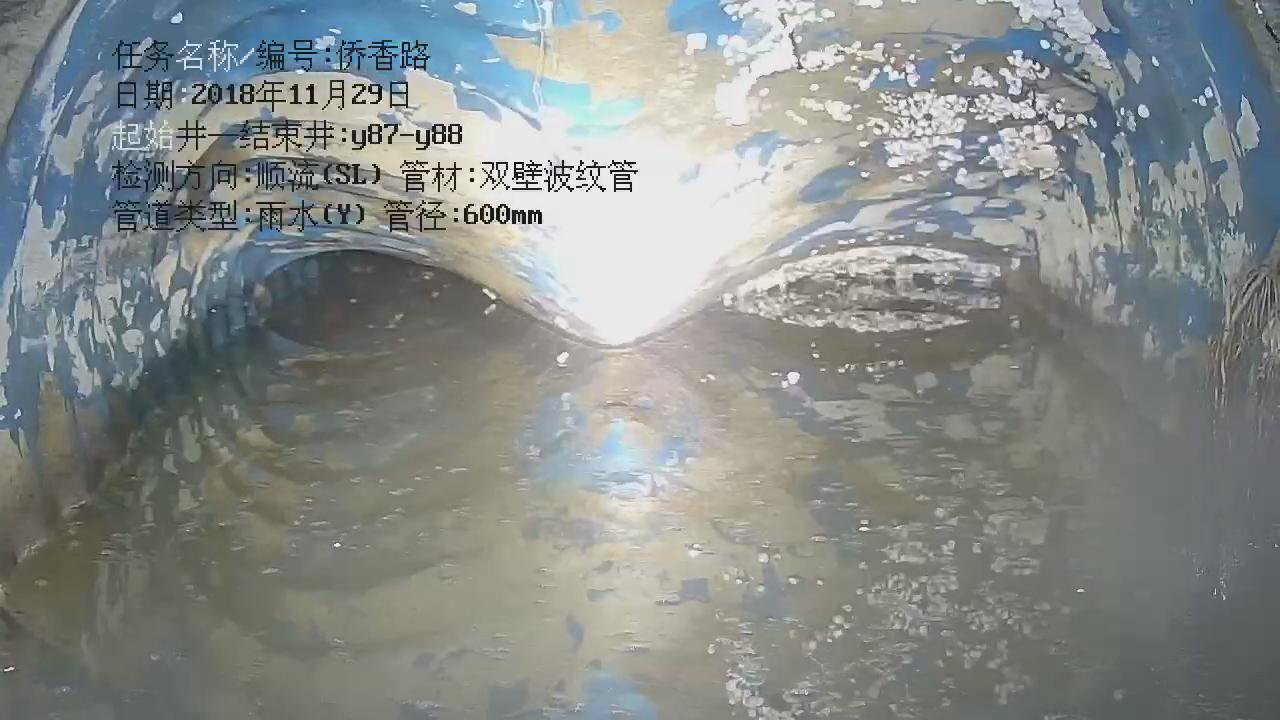BX: (184, 65, 1161, 359)
